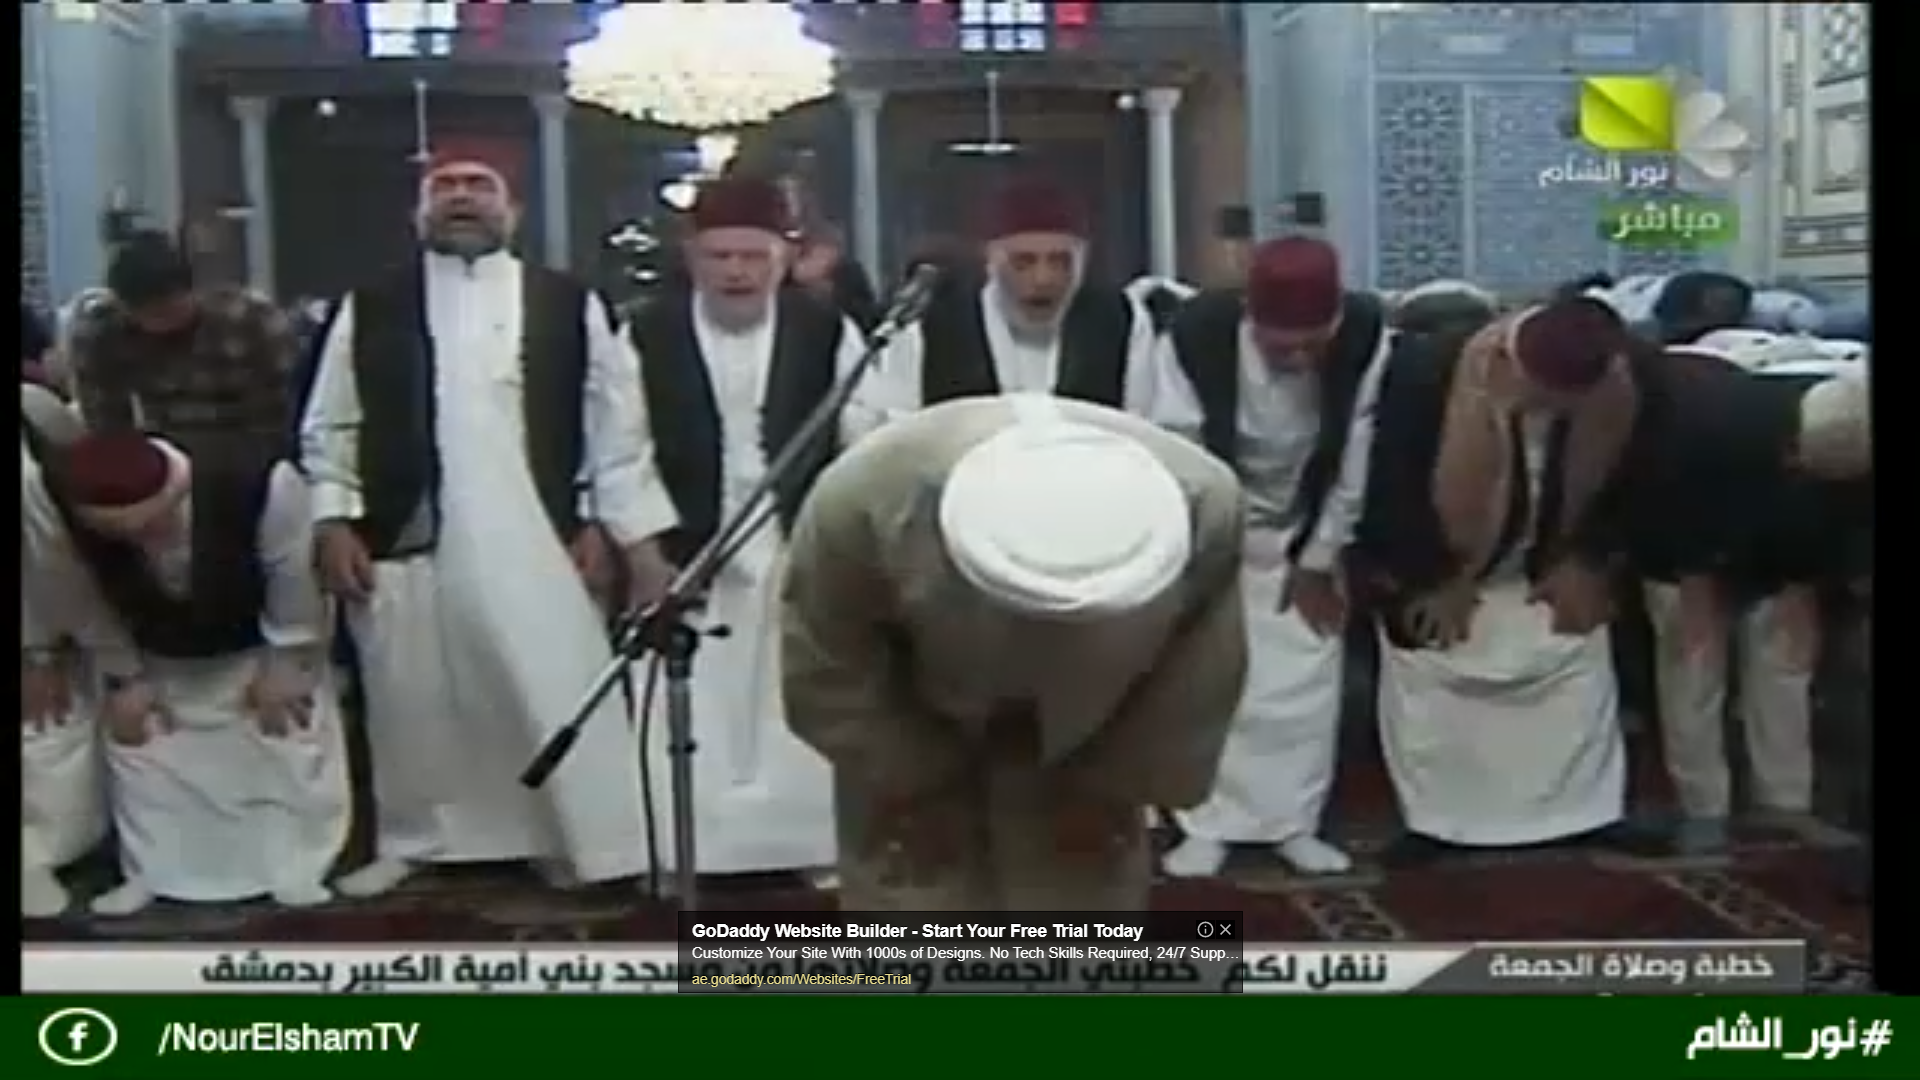ruku: (731, 349, 1367, 1080)
